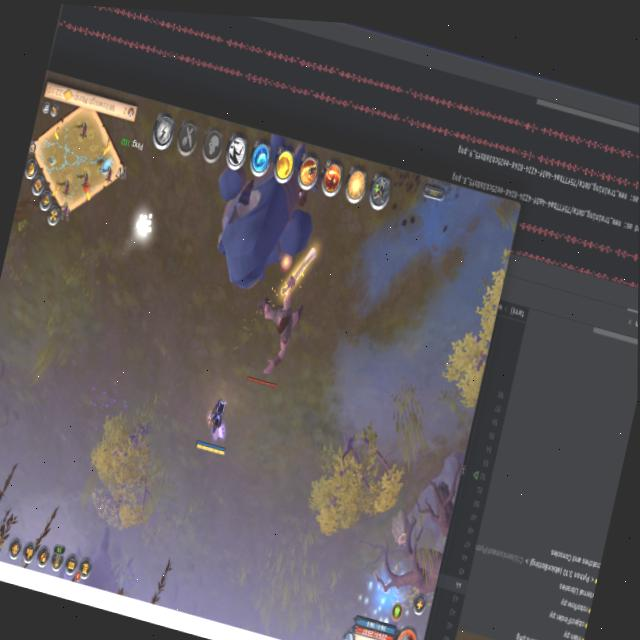ore: (241, 263, 315, 401)
red: (190, 382, 240, 462)
stone: (125, 198, 161, 255)
